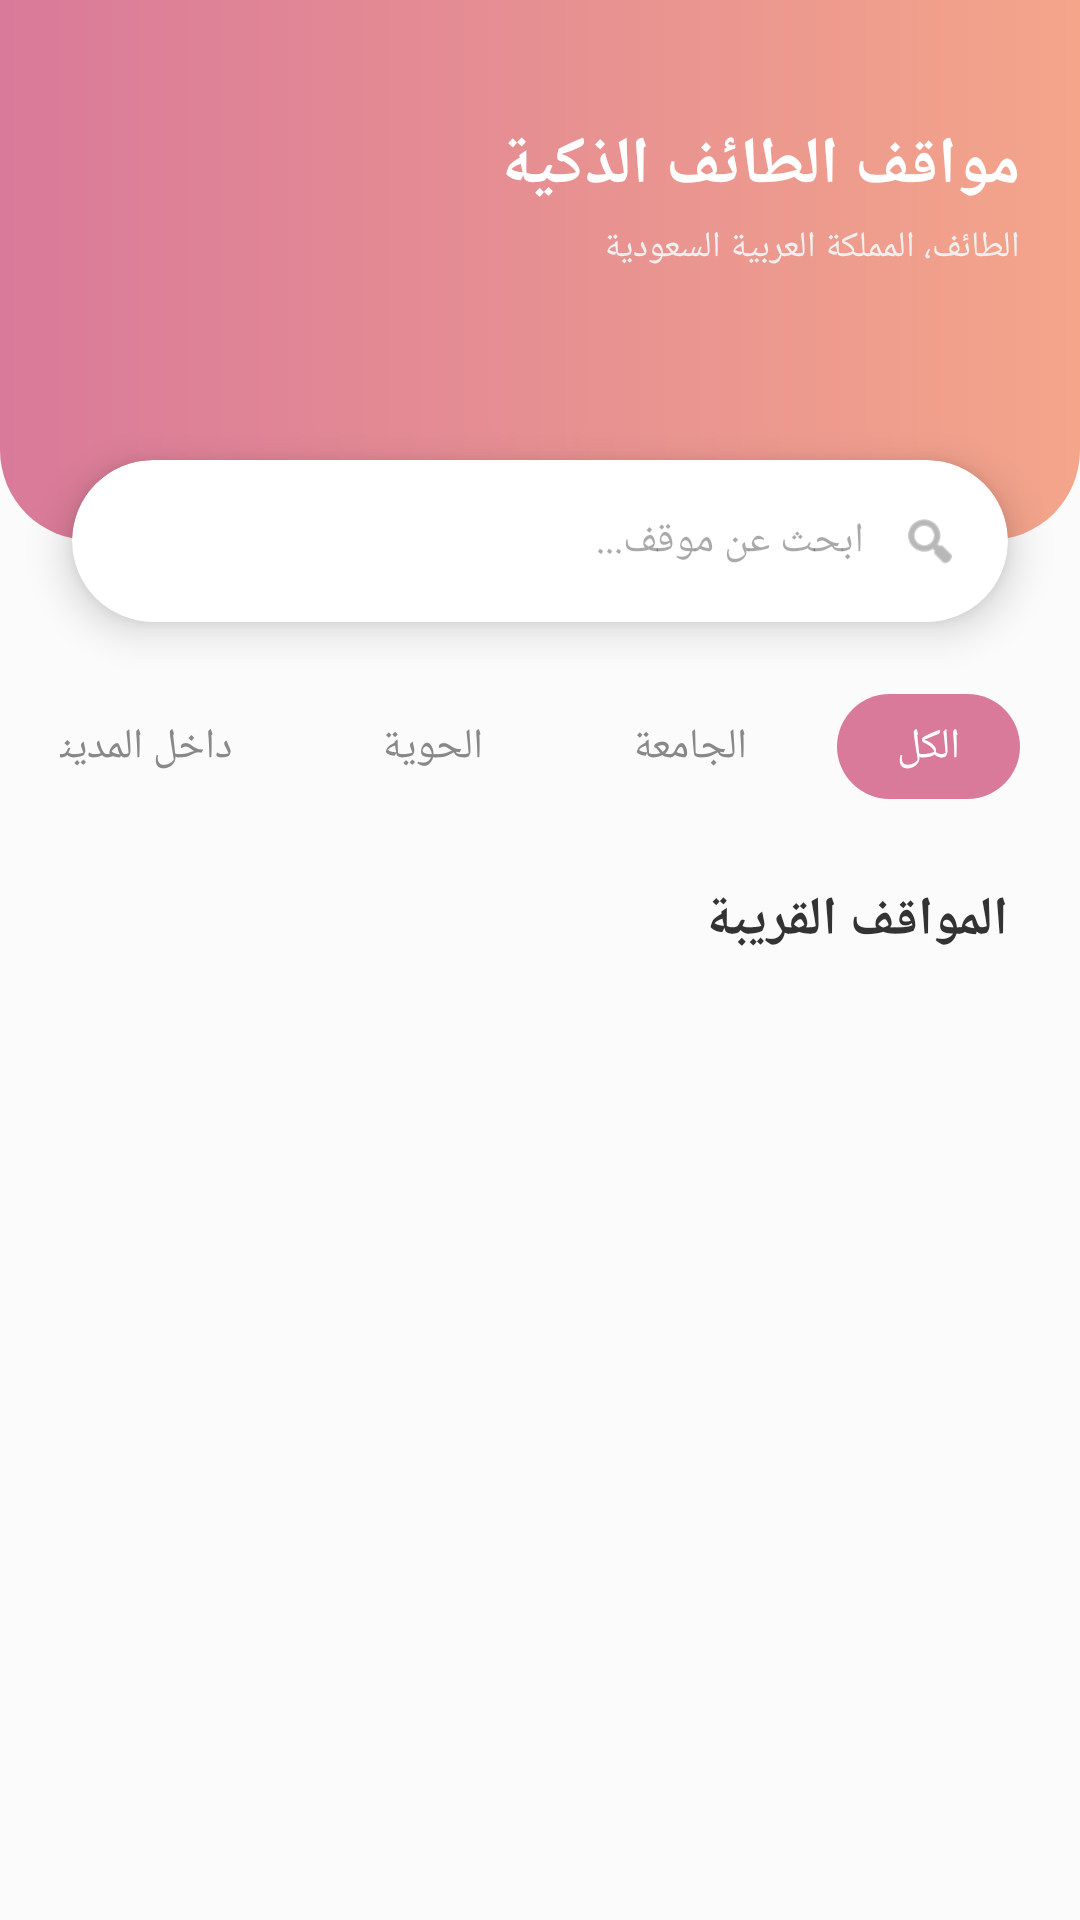

Locate icon controls on the screen. Image size 1080px×1920px, boxes as (x1, y1, x2, y2).
search: (908, 519, 952, 563)
